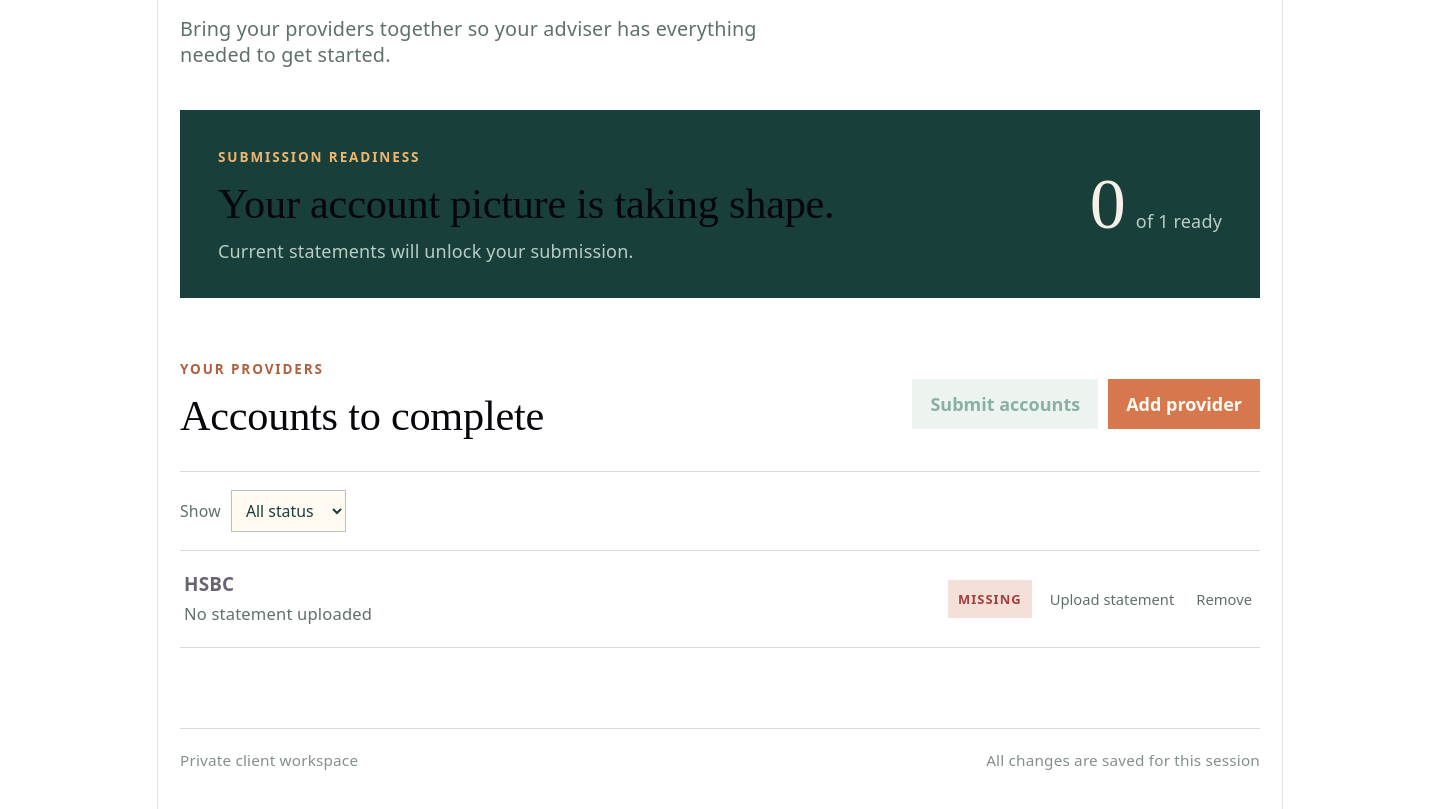
App › shows statement validation feedback in the upload dialog
(page scrolled)
expect the heading "HSBC" is shown: met, box left=184, top=571, right=234, bottom=597
Click the button "Upload statement" at x=1112, y=599, box left=1046, top=582, right=1178, bottom=616
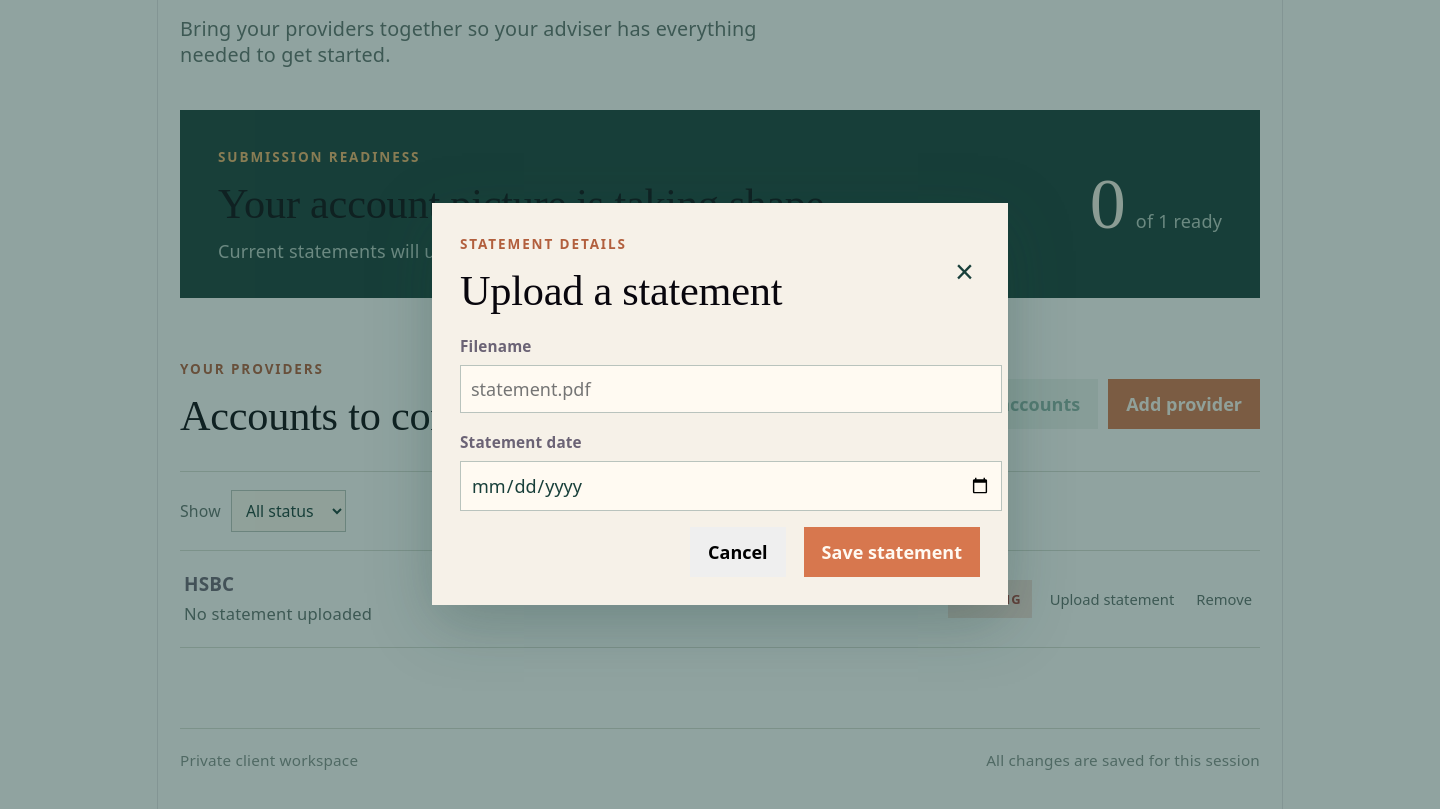
Click the button "Save statement" at x=892, y=552, box left=804, top=527, right=980, bottom=578
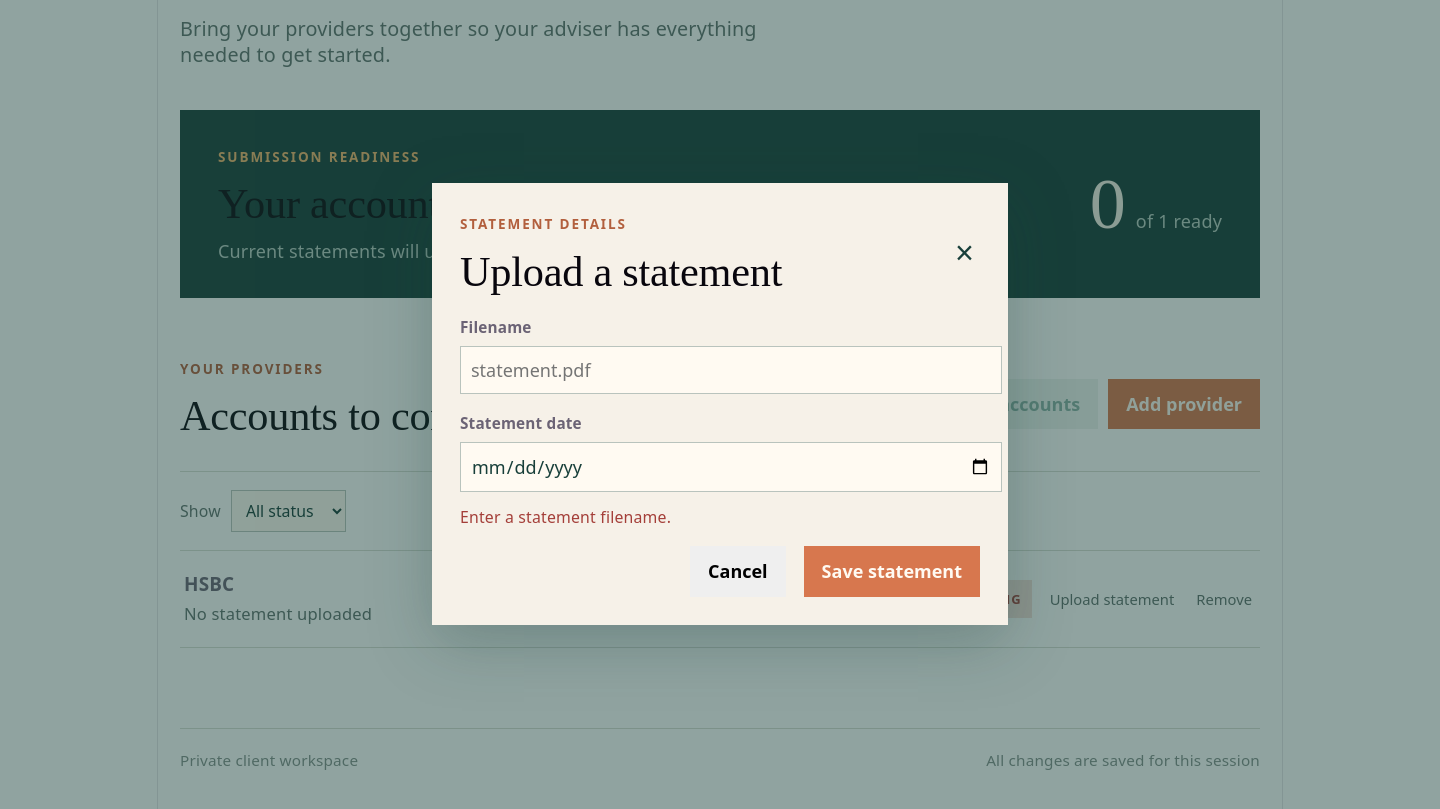
expect the message reads "Enter a statement filename.": met, box left=460, top=506, right=671, bottom=528
Type "hsbc.pdf" into the field labelled "Filename" at x=731, y=370, box left=460, top=346, right=1002, bottom=394
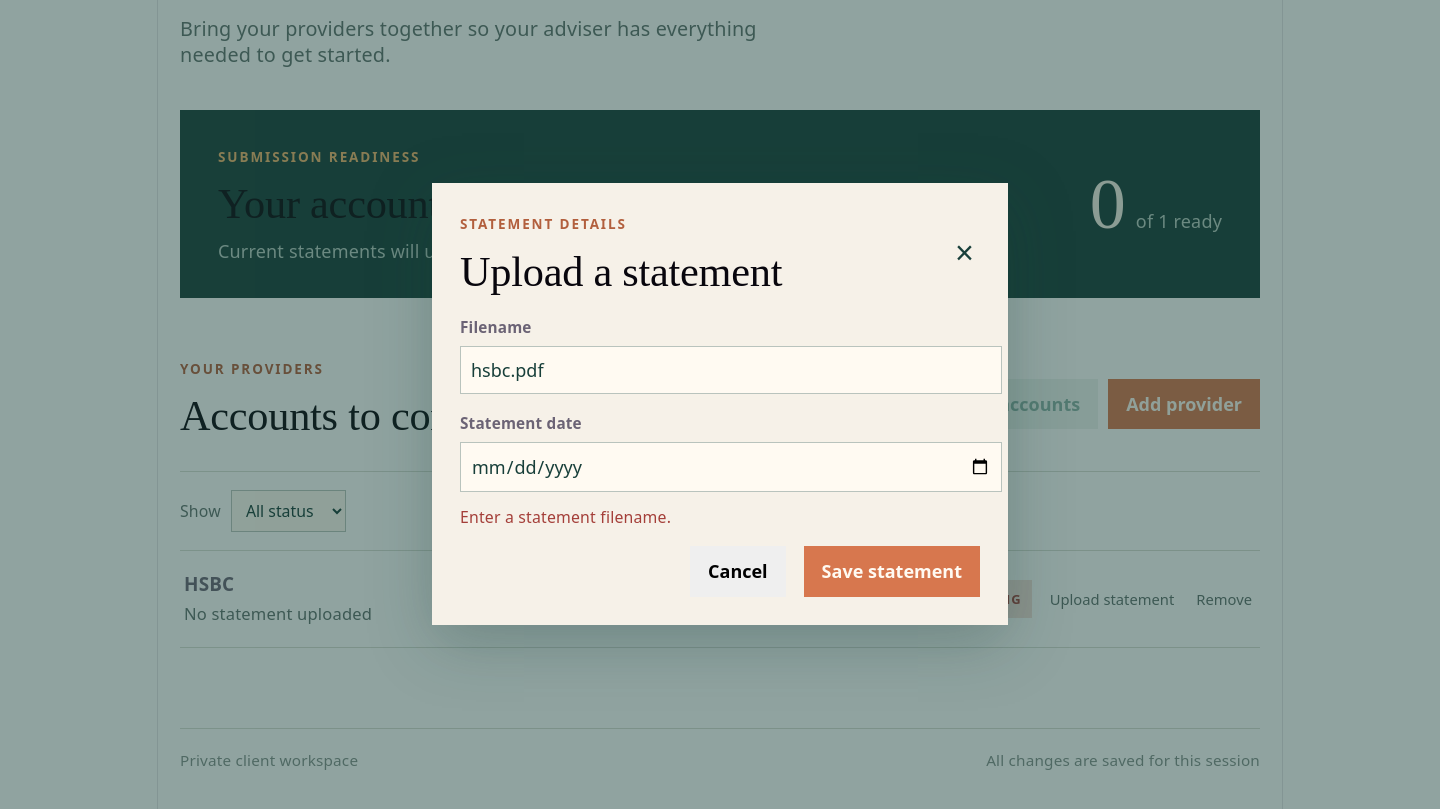
Click the button "Save statement" at x=892, y=571, box left=804, top=546, right=980, bottom=596
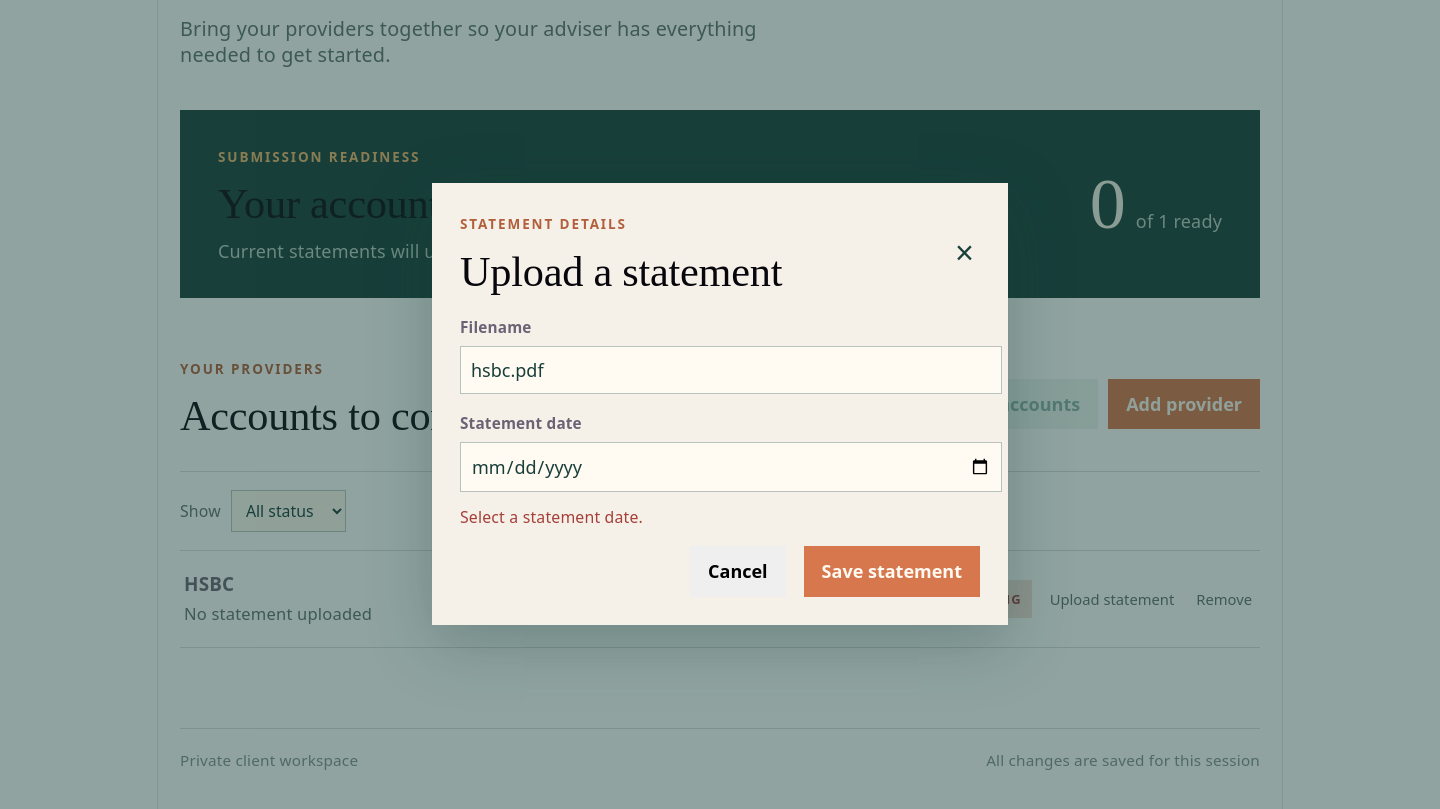
expect the message reads "Select a statement date.": met, box left=460, top=506, right=643, bottom=528
